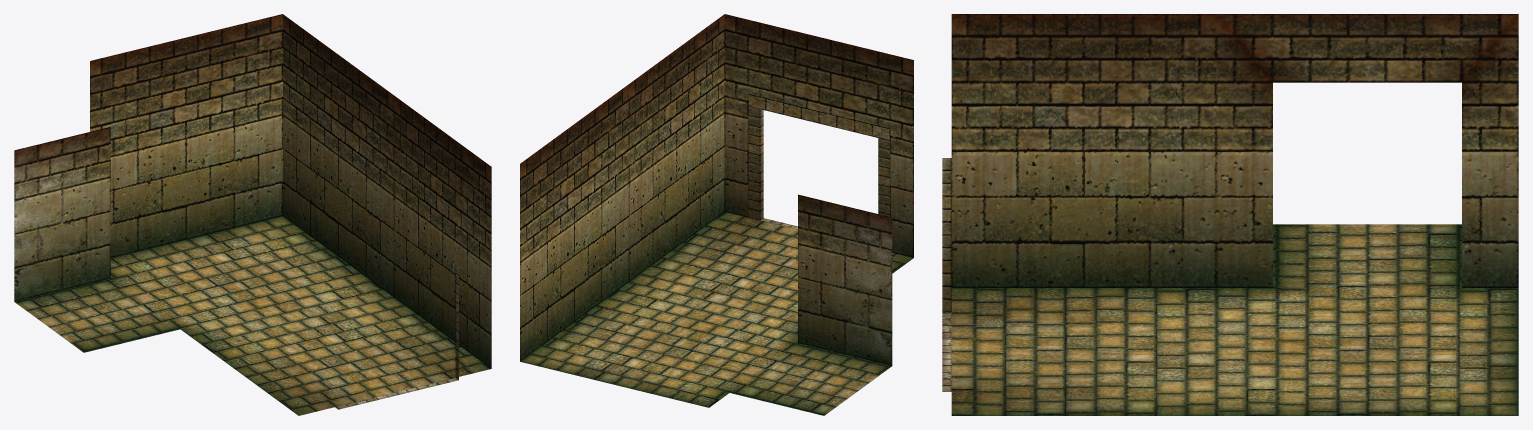
File: Mission12_ConnectingLandscape.glb
The picture shows the model from 3 angles, left to right: view 1: azimuth 30°, elevation 25°; view 2: azimuth 150°, elevation 25°; view 3: azimuth 270°, elevation 25°; orthographic projection. The views are drawn at different scales.
Visible parts, largest first — view 1: MISSION12_CONNECTINGLANDSCAPE; view 2: MISSION12_CONNECTINGLANDSCAPE; view 3: MISSION12_CONNECTINGLANDSCAPE.
Boxes of the visible parts, x1,y1,x2,y2 form: MISSION12_CONNECTINGLANDSCAPE: (14,14,491,415); MISSION12_CONNECTINGLANDSCAPE: (520,14,913,415); MISSION12_CONNECTINGLANDSCAPE: (942,14,1518,415).
Bounding box in the file's own units: 6 × 4 × 7.62.
Materials: 11 (11 with a texture image).
